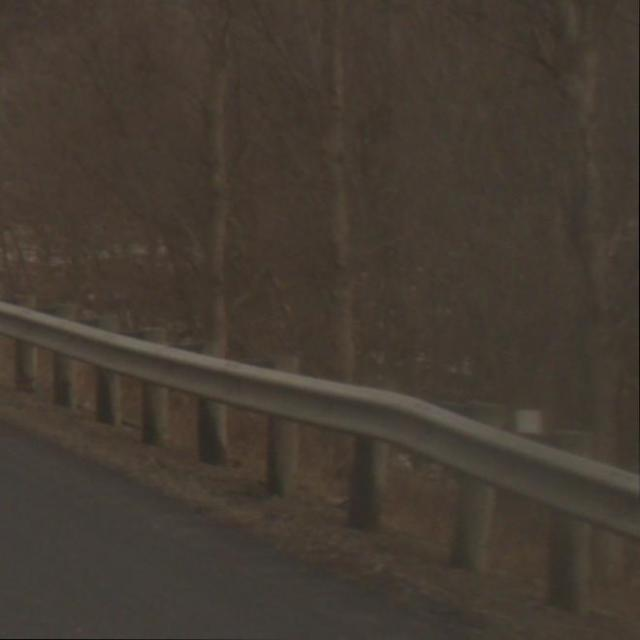Guard rail: (0, 287, 640, 628)
